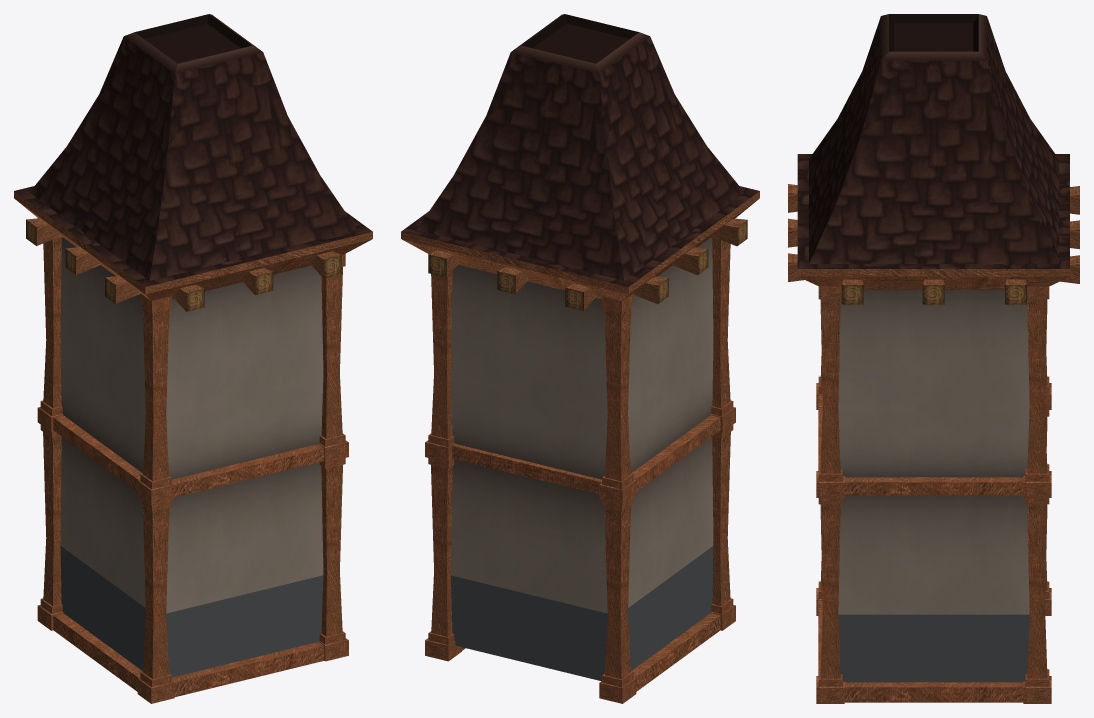
File: fanasty_mod_squ_tower_lar.fbx
The picture shows the model from 3 angles, left to right: view 1: azimuth 30°, elevation 25°; view 2: azimuth 150°, elevation 25°; view 3: azimuth 270°, elevation 25°; orthographic projection. The views are drawn at different scales.
Visible parts, largest first — view 1: squ_tower_lar; view 2: squ_tower_lar; view 3: squ_tower_lar.
Part boxes in pixels (x1=…): squ_tower_lar: x1=14, y1=14, x2=372, y2=703; squ_tower_lar: x1=401, y1=14, x2=759, y2=703; squ_tower_lar: x1=788, y1=14, x2=1079, y2=703.
Bounding box in the file's own units: 4.58 × 10.71 × 4.56.
